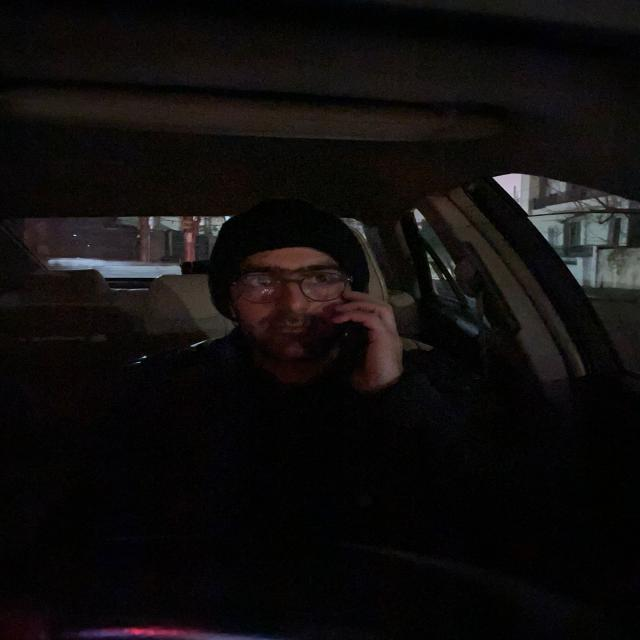mobile: (324, 306, 379, 383)
person: (212, 202, 381, 384)
